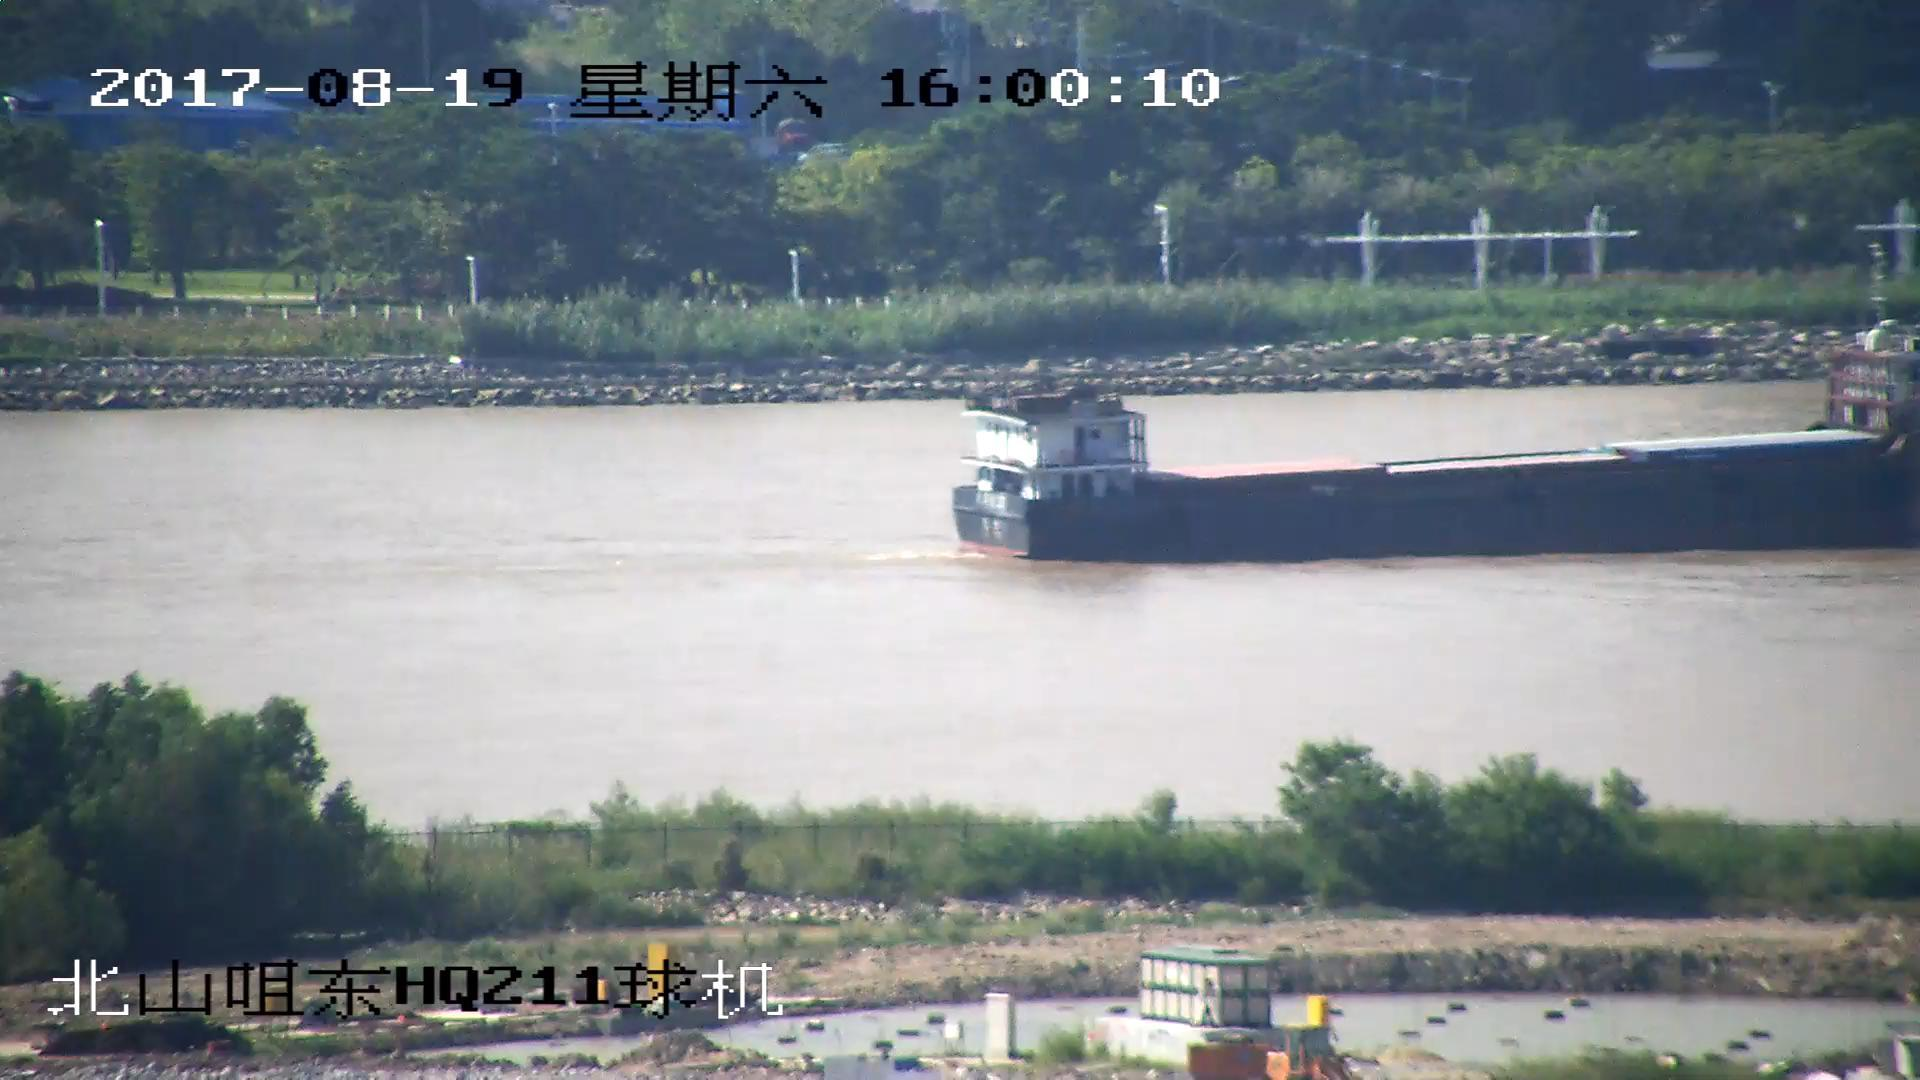Ship: (945, 316, 1920, 570)
